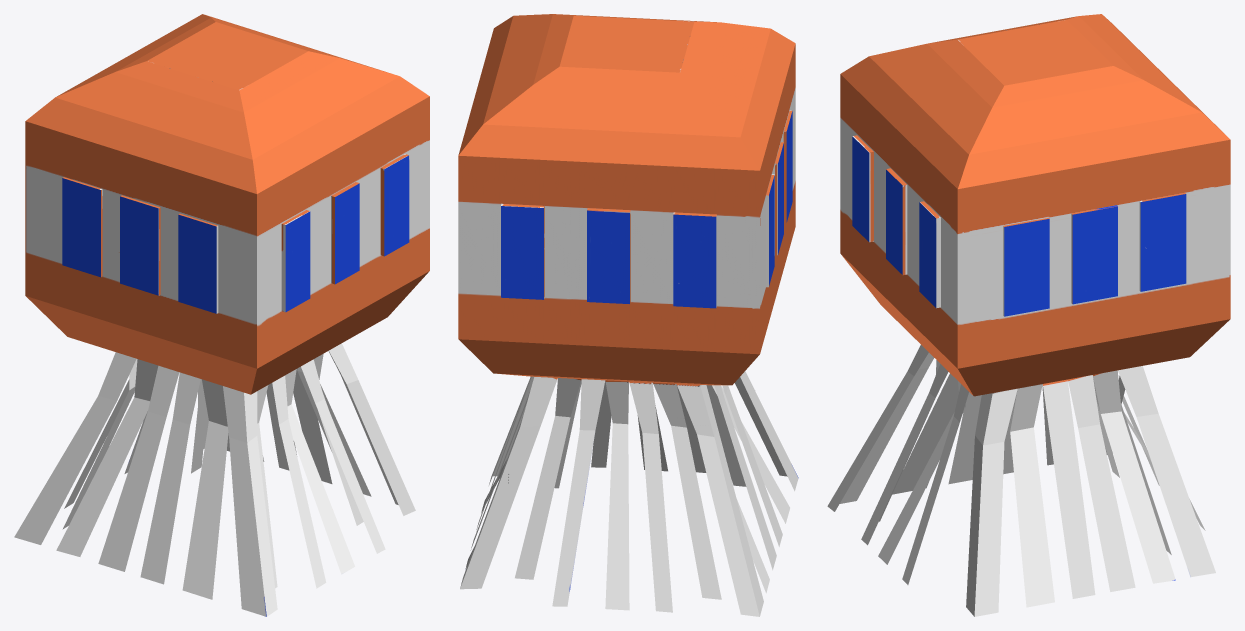
File: AnimGasolina 2.fbx
3 renders of one model, left to right at view 1: azimuth 30°, elevation 25°; view 2: azimuth 150°, elevation 25°; view 3: azimuth 270°, elevation 25°, orthographic. The views are drawn at different scales.
Visible parts, largest first — view 1: Gasolina; view 2: Gasolina; view 3: Gasolina.
Boxes of the visible parts, bbox=[...] form: Gasolina: bbox=[14, 14, 429, 616]; Gasolina: bbox=[458, 14, 798, 616]; Gasolina: bbox=[827, 14, 1230, 616].
Size of the model in its own units: 267 by 360 by 271.
1 material, 1 textured.
